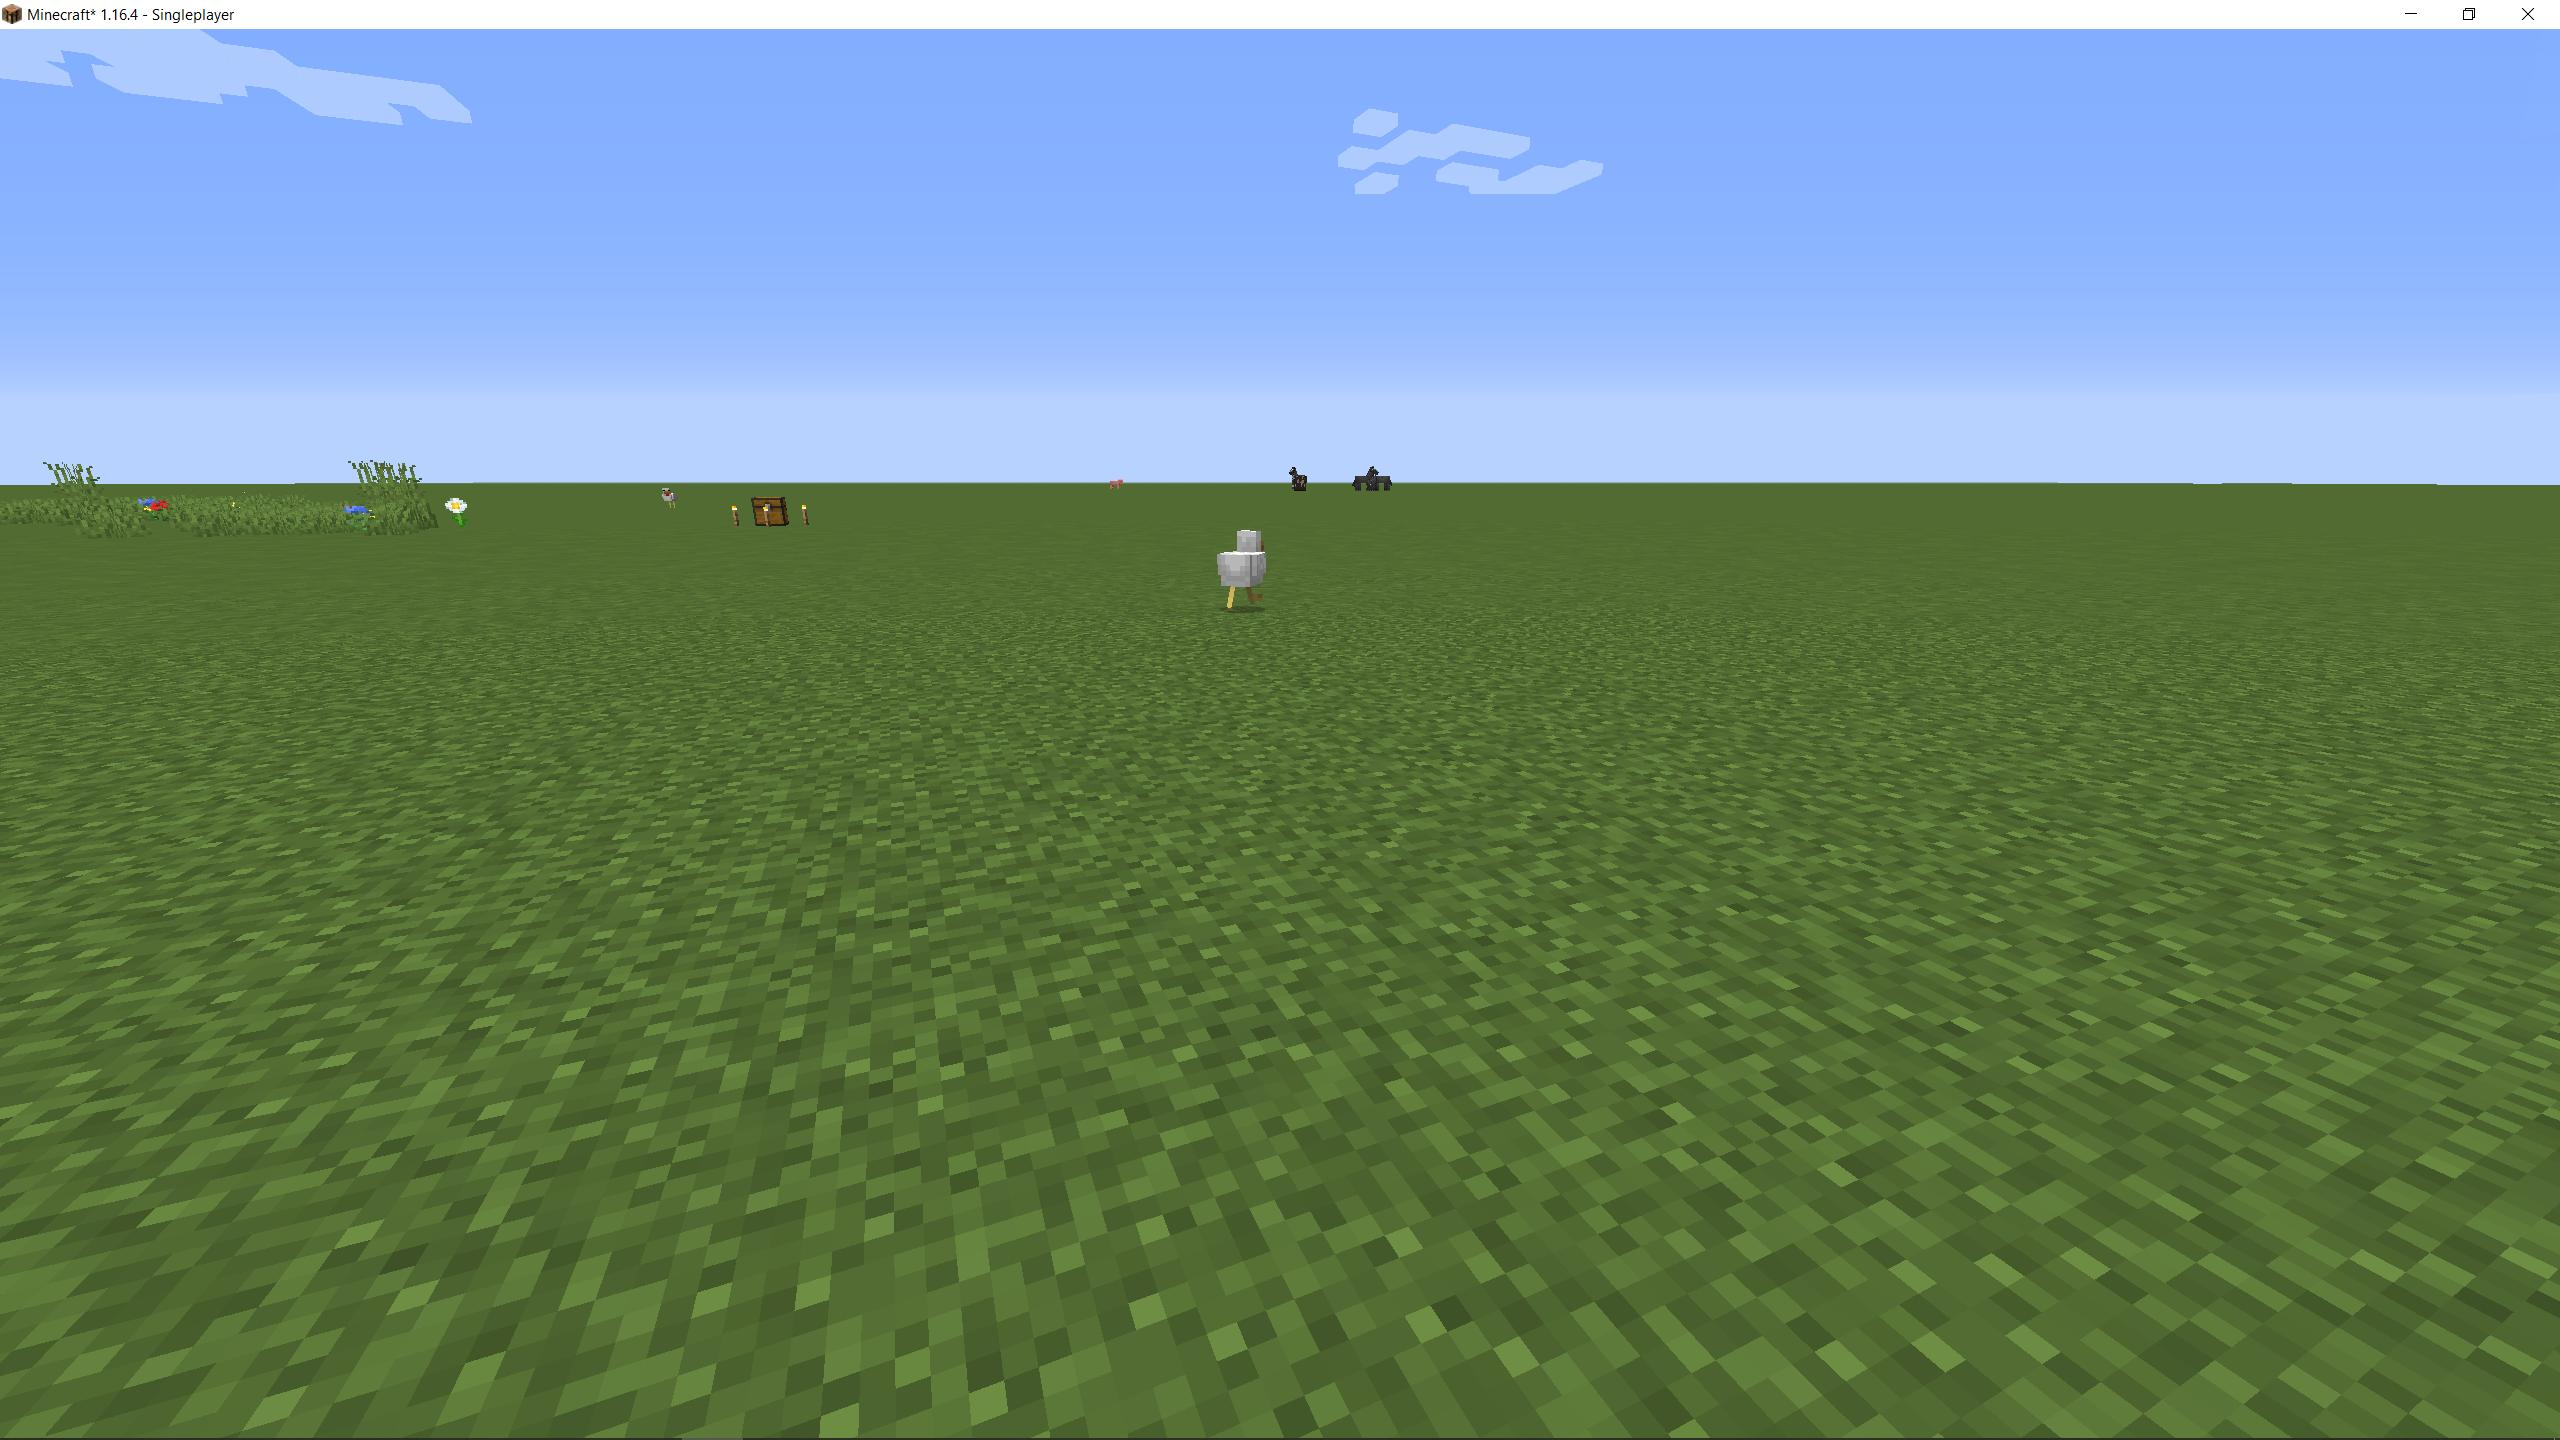chicken: (1213, 524, 1275, 612)
